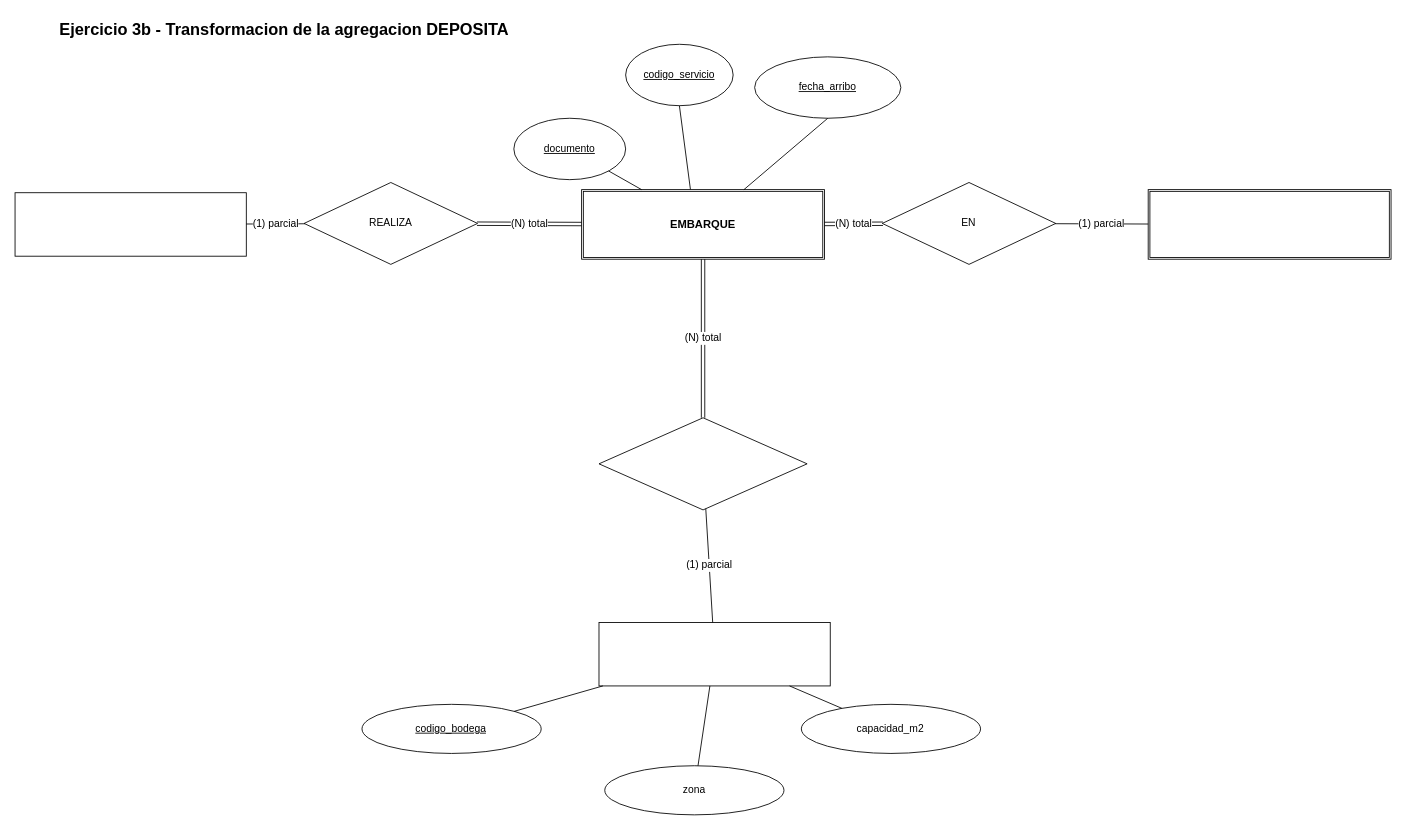
Some shapes in this 1406 by 830 pixel diagram are drawn without their labels. The centre of each missing label's shape, as x and y in pixels:
"ALMACENADO_EN" goes at [702,463].
"BODEGA" goes at [714,654].
"IMPORTADOR" goes at [130,224].
"RECALADA" goes at [1269,224].
